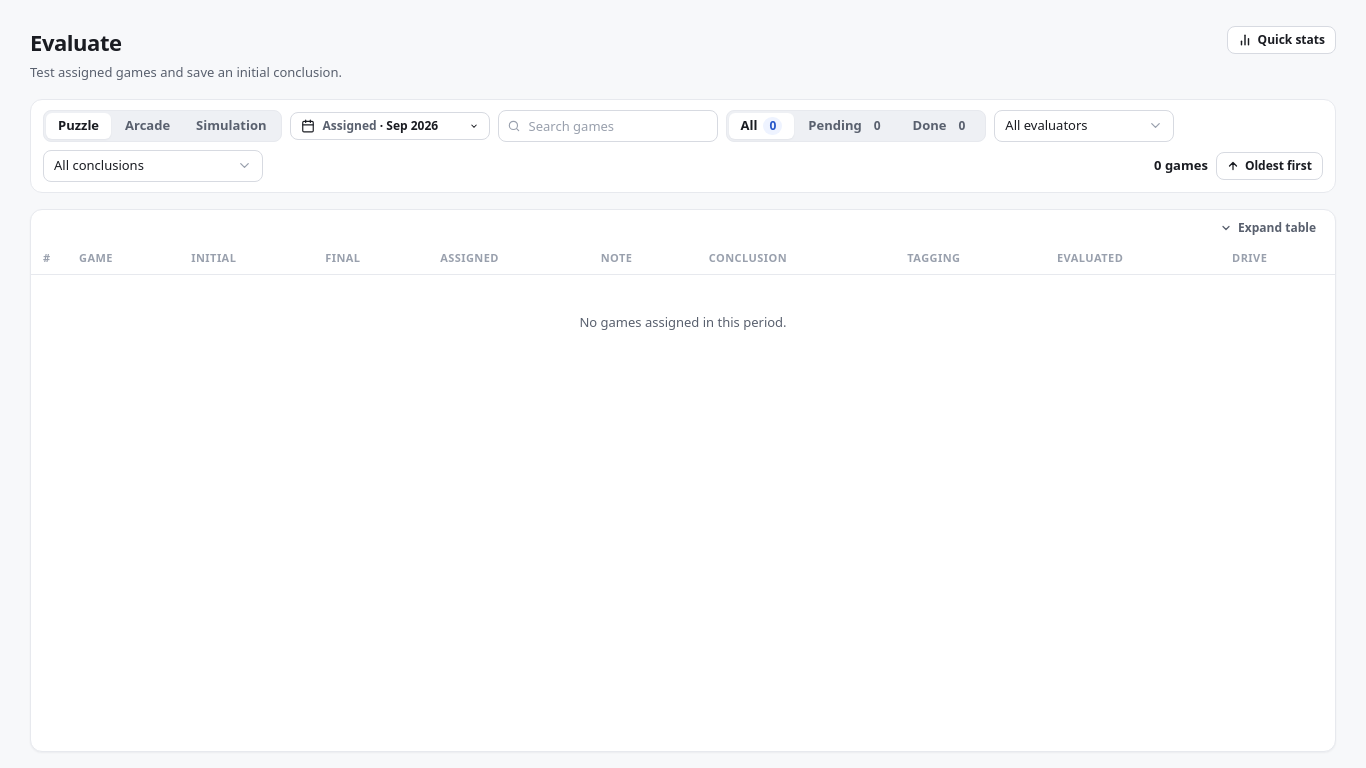
searching on the Evaluate tab › finds a game by its store id
Type "6762543798" into the search field with placeholder "Search games" at (608, 126), box [498,110,718,142]
Wait 500 ms
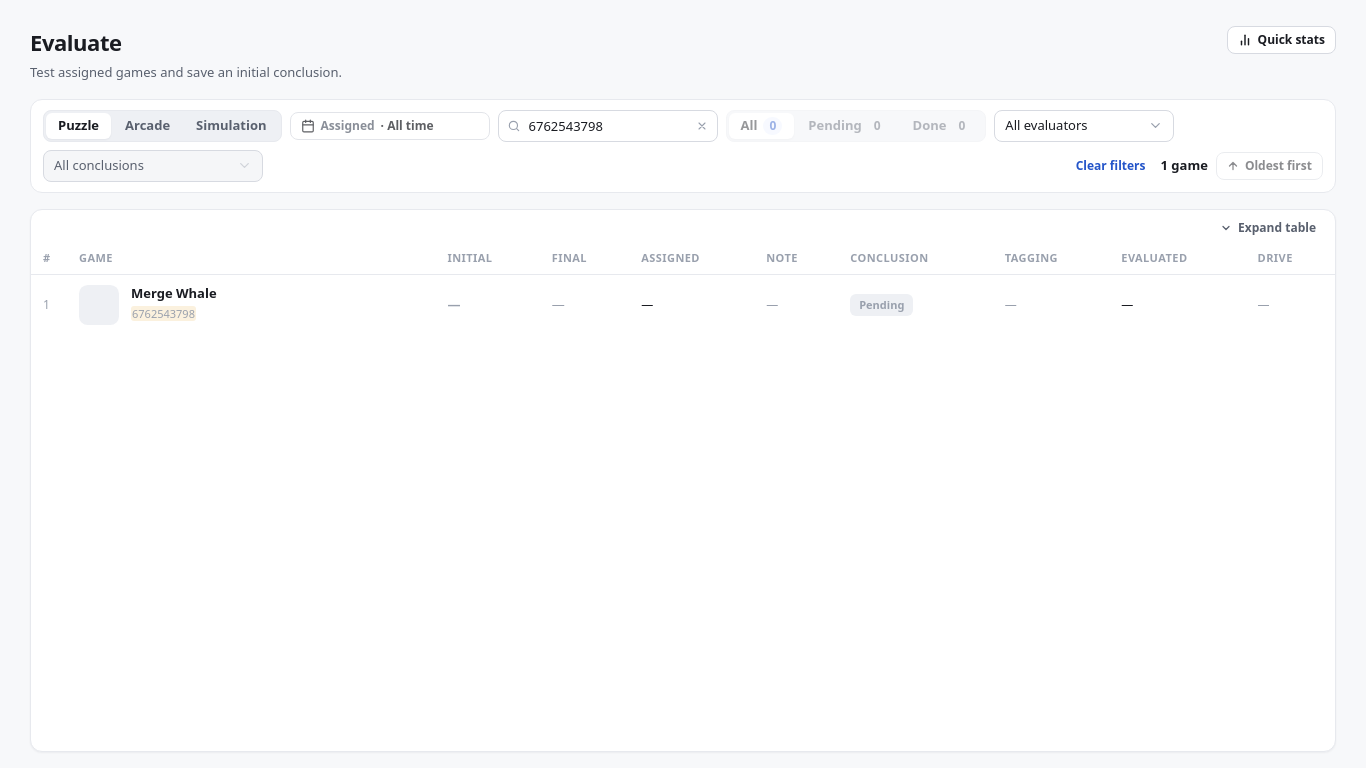
Result: the text "Merge Whale" is shown at [131,285,217,302]
